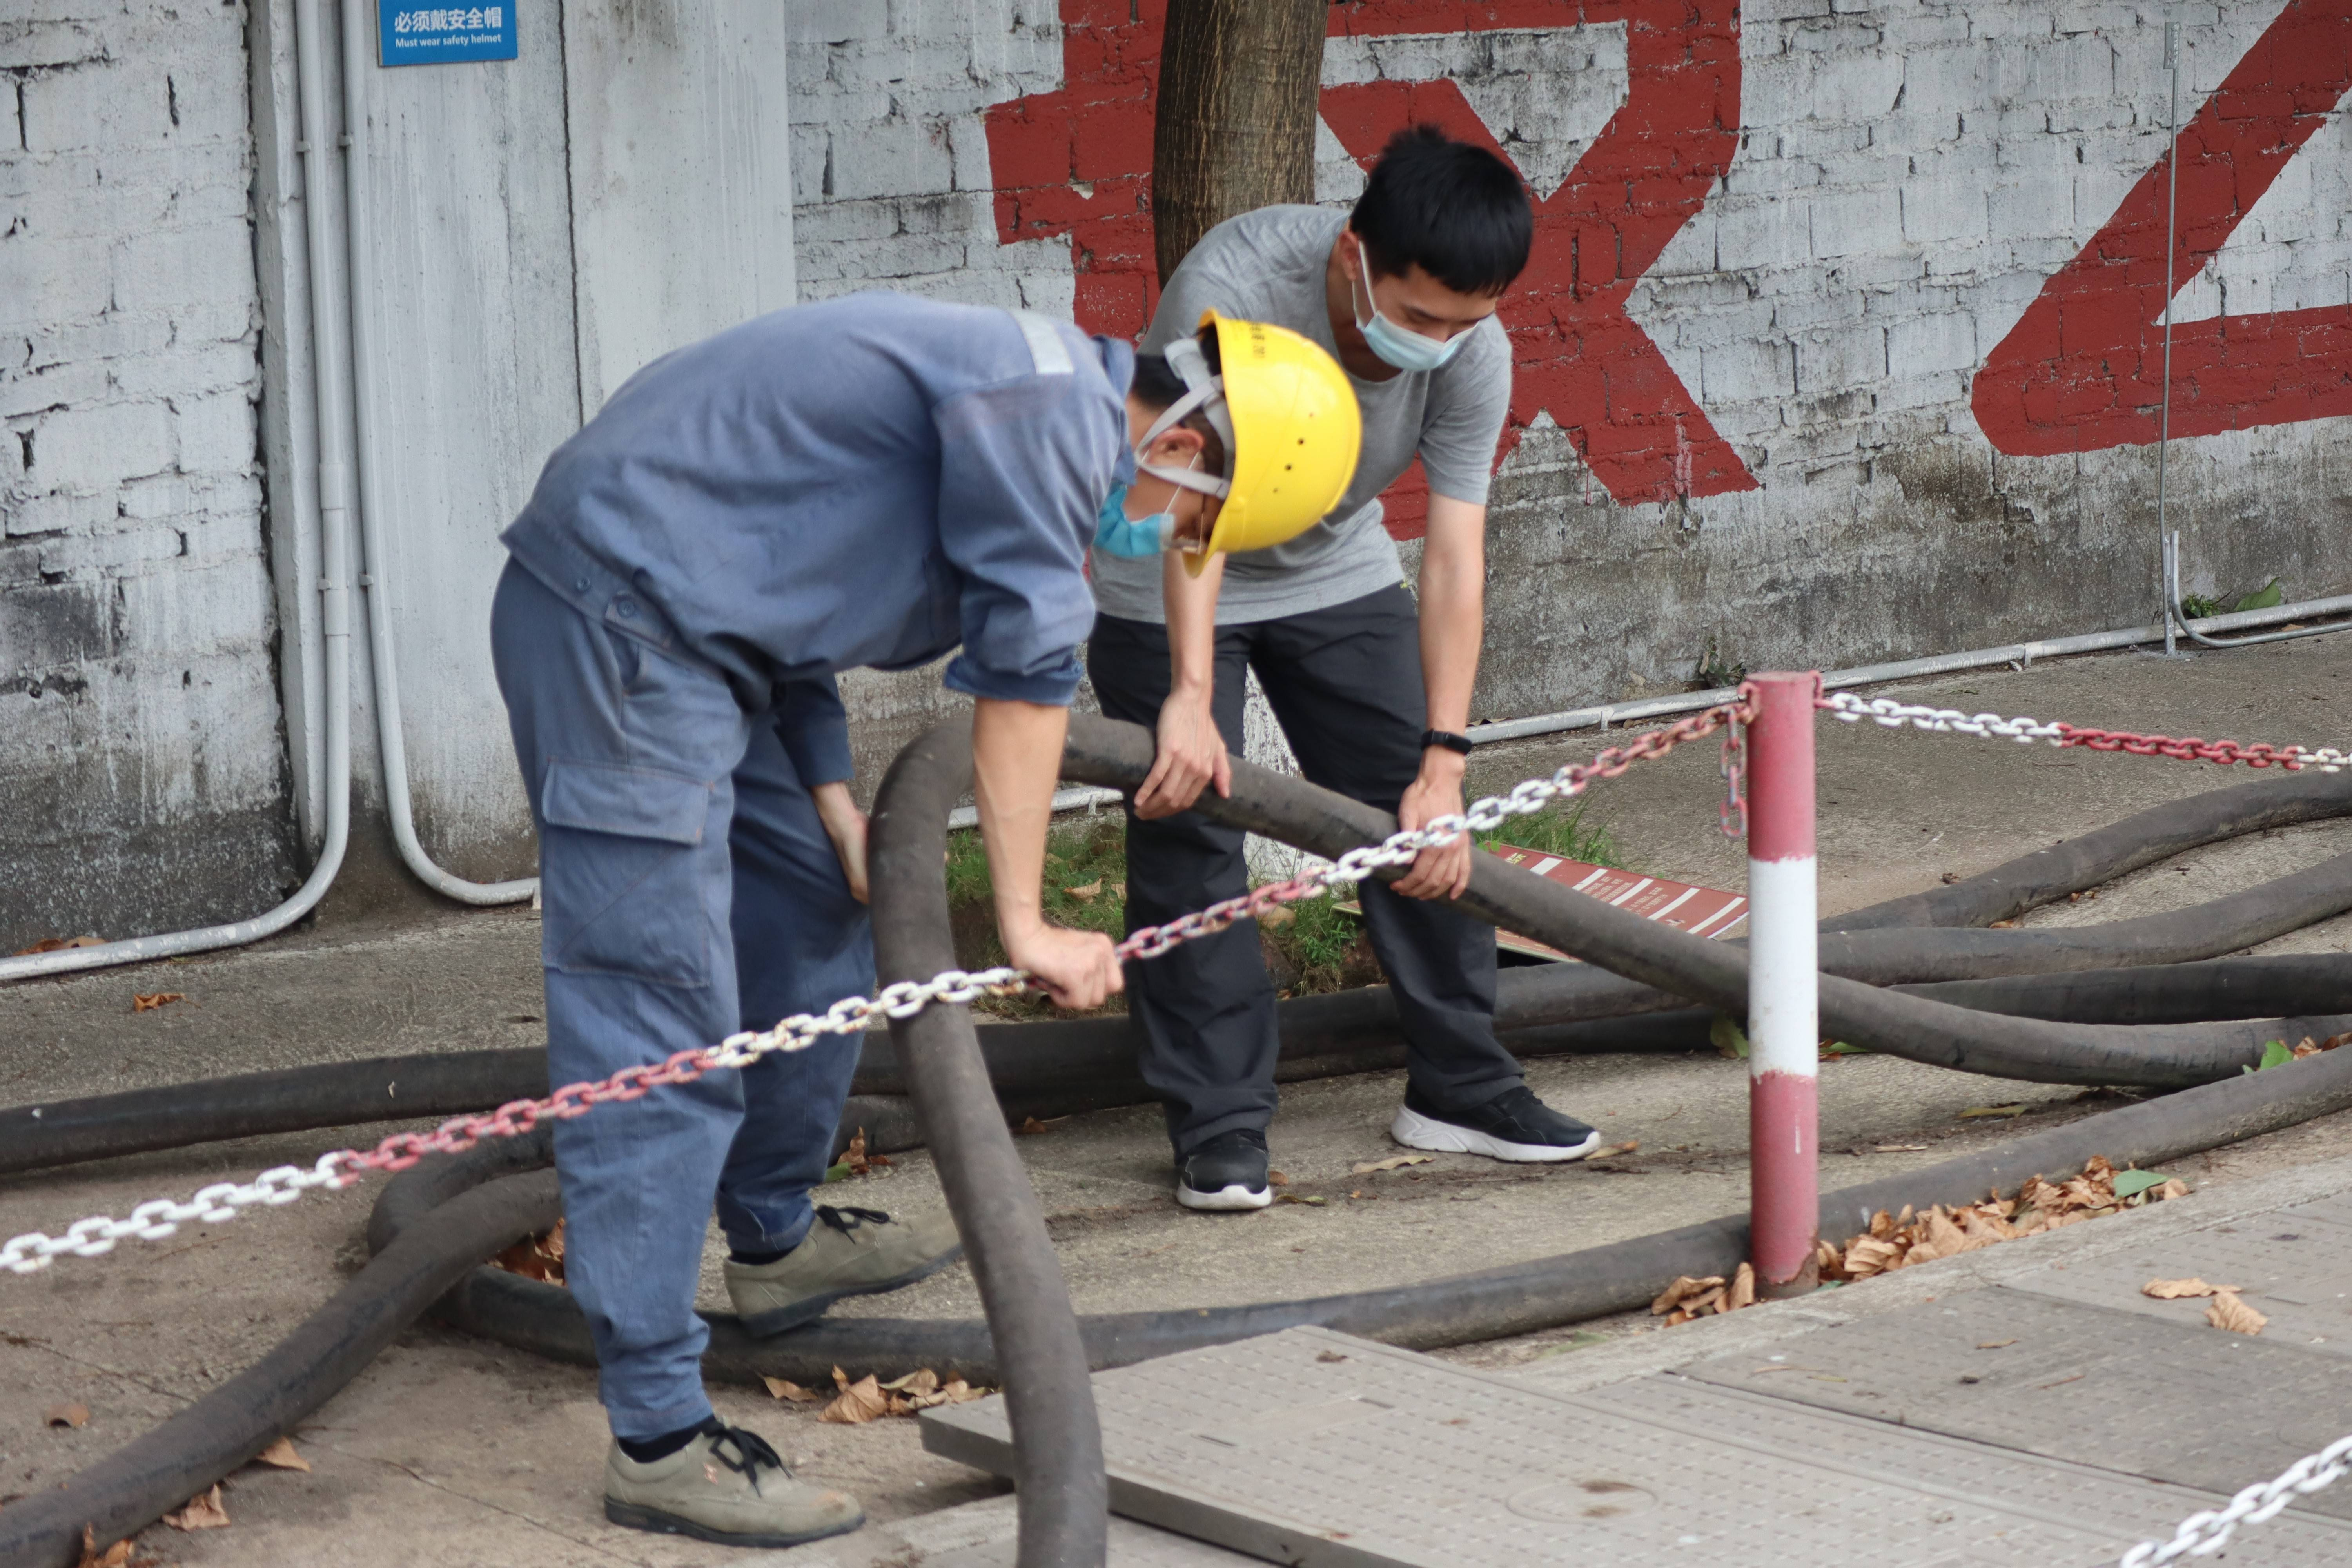downcloth: (1111, 583, 1503, 1136)
downsuit: (530, 751, 880, 1426)
upcloth: (1169, 199, 1451, 611)
upsuit: (492, 285, 1125, 703)
wrongtop: (941, 637, 1101, 1004)
